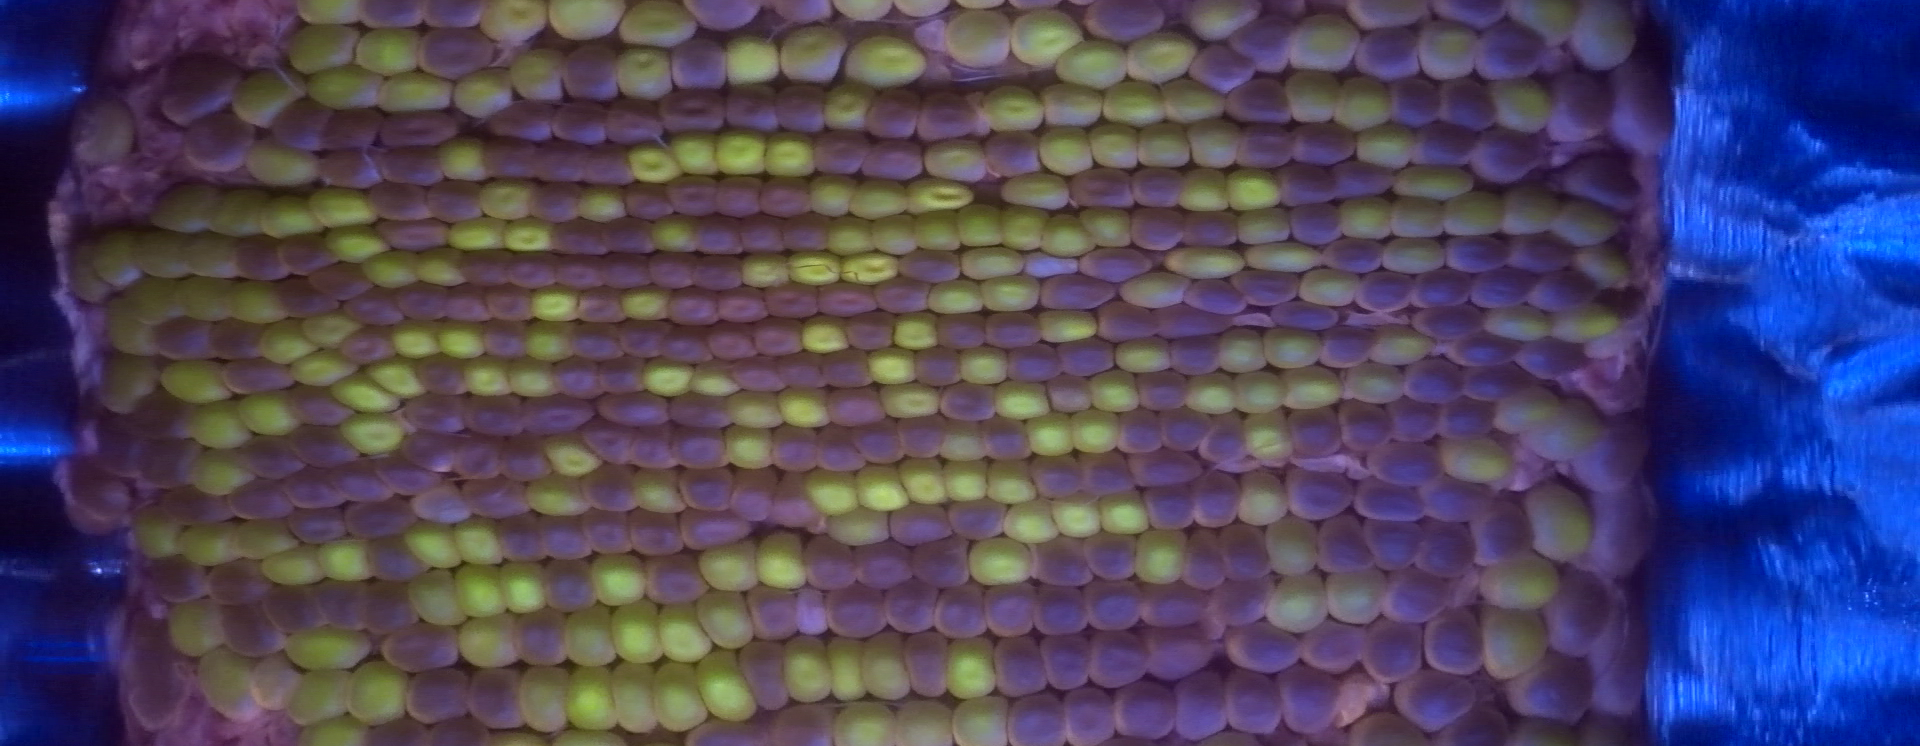fluorescent: (1531, 398, 1610, 468), (69, 93, 136, 171), (1008, 9, 1090, 66), (1566, 1, 1635, 70), (230, 73, 307, 125), (201, 650, 258, 717), (699, 652, 756, 717), (846, 39, 923, 86), (1556, 197, 1633, 244), (280, 628, 371, 668), (1338, 361, 1417, 405), (656, 664, 709, 729), (458, 614, 516, 673), (944, 12, 1007, 66), (1544, 480, 1588, 556), (969, 538, 1033, 588), (782, 26, 840, 82), (1296, 16, 1354, 70), (350, 661, 409, 715), (1480, 612, 1542, 664), (1056, 40, 1124, 86), (784, 637, 829, 704), (149, 185, 211, 234), (288, 29, 358, 72), (100, 356, 154, 412), (1446, 437, 1510, 484), (100, 301, 158, 353), (610, 605, 661, 663), (947, 638, 997, 697), (1491, 387, 1558, 431), (249, 138, 313, 183), (1130, 32, 1191, 78), (1419, 27, 1480, 73), (724, 36, 776, 89), (549, 1, 623, 39), (613, 663, 654, 733), (800, 465, 857, 514), (169, 598, 218, 655), (863, 632, 907, 696), (162, 361, 233, 401), (312, 537, 369, 586), (621, 7, 696, 44), (1338, 73, 1393, 122), (238, 394, 299, 439), (290, 673, 347, 720), (381, 73, 451, 111), (129, 506, 180, 557), (522, 668, 566, 728), (1168, 244, 1242, 279), (454, 73, 513, 118), (921, 138, 987, 178), (1502, 189, 1556, 236), (358, 29, 422, 69), (1346, 710, 1417, 746), (1189, 2, 1262, 37), (509, 51, 561, 100), (182, 521, 234, 570), (478, 1, 544, 39), (833, 706, 899, 744), (699, 597, 753, 643), (569, 668, 611, 728), (1044, 80, 1101, 124), (288, 349, 355, 386), (659, 610, 708, 660), (238, 516, 296, 557), (1081, 206, 1135, 251), (1493, 85, 1548, 129), (1248, 414, 1292, 469), (700, 550, 756, 594), (980, 88, 1040, 129), (347, 412, 407, 452), (1569, 706, 1629, 746), (310, 191, 373, 229), (1138, 530, 1185, 581), (616, 54, 669, 99), (1182, 372, 1236, 416), (1494, 561, 1548, 605), (827, 638, 864, 701), (1262, 330, 1322, 369), (180, 274, 228, 323), (407, 522, 456, 570), (413, 575, 460, 624), (567, 612, 613, 663), (192, 405, 250, 446), (331, 377, 400, 410), (850, 472, 909, 511), (1298, 266, 1353, 307), (365, 358, 427, 394), (313, 73, 380, 108), (1004, 501, 1056, 545), (1553, 307, 1616, 343), (955, 701, 1008, 744), (1000, 175, 1068, 208), (1289, 73, 1337, 120), (69, 243, 105, 303), (1248, 243, 1322, 272), (629, 468, 682, 510), (900, 699, 953, 741), (1343, 194, 1390, 240), (1092, 367, 1139, 414), (1043, 126, 1089, 174), (140, 227, 185, 274), (1581, 246, 1629, 292), (1280, 578, 1322, 628), (1446, 190, 1498, 232), (593, 560, 644, 601), (185, 238, 238, 278), (726, 424, 771, 470), (714, 127, 762, 171), (211, 195, 258, 239), (523, 479, 587, 512), (1138, 126, 1187, 169), (298, 715, 366, 746), (1222, 331, 1272, 372), (1070, 408, 1120, 450), (460, 567, 501, 619), (361, 254, 418, 290), (542, 439, 599, 475), (1162, 87, 1224, 120), (1502, 715, 1570, 746), (1194, 122, 1239, 168), (902, 459, 947, 506), (431, 142, 485, 180), (447, 526, 504, 561), (465, 356, 514, 398), (1030, 412, 1071, 461), (999, 205, 1046, 247), (1331, 578, 1378, 621), (760, 537, 802, 584), (189, 457, 249, 490), (1393, 194, 1442, 234), (224, 284, 282, 318), (266, 198, 316, 238), (1043, 216, 1093, 255), (1393, 169, 1469, 195), (262, 323, 313, 361), (1381, 328, 1433, 366), (1485, 305, 1547, 337), (724, 394, 782, 428), (1272, 521, 1315, 566), (1227, 175, 1280, 212), (1104, 83, 1161, 118), (96, 236, 136, 284), (1234, 372, 1283, 412), (1118, 336, 1169, 372), (883, 385, 938, 419), (809, 173, 851, 218), (1180, 170, 1226, 212), (1243, 474, 1282, 522), (130, 282, 182, 317), (1382, 240, 1449, 268), (1125, 274, 1194, 301), (1284, 371, 1338, 405), (987, 276, 1037, 312), (1040, 311, 1100, 342), (504, 563, 544, 610), (893, 312, 940, 350), (765, 137, 814, 174), (840, 251, 901, 281), (306, 314, 362, 345), (827, 85, 871, 125), (802, 314, 849, 352), (961, 345, 1008, 383), (994, 383, 1046, 418), (264, 549, 316, 583), (324, 232, 387, 260), (1517, 1, 1572, 33), (867, 348, 920, 381), (929, 279, 980, 314), (623, 285, 669, 323), (776, 393, 828, 426), (394, 320, 442, 355), (508, 359, 556, 394), (907, 183, 967, 211), (944, 461, 984, 502), (627, 147, 676, 181), (480, 185, 529, 219), (441, 323, 487, 359), (853, 186, 905, 218), (1356, 134, 1411, 163), (989, 465, 1033, 502), (502, 222, 552, 254), (418, 249, 464, 283), (958, 209, 1000, 246), (1048, 501, 1100, 532), (1090, 132, 1135, 167), (1237, 211, 1287, 241), (673, 136, 715, 173), (915, 216, 956, 252), (872, 220, 915, 256), (831, 214, 869, 254), (740, 254, 786, 285), (533, 289, 579, 321), (691, 363, 737, 394), (647, 359, 694, 390), (449, 220, 503, 247), (653, 216, 692, 252), (790, 254, 839, 283), (1106, 499, 1146, 534), (959, 252, 1021, 274), (556, 726, 621, 746), (1198, 726, 1260, 746), (300, 1, 355, 23), (527, 327, 564, 359), (580, 191, 623, 219), (493, 726, 549, 746), (831, 2, 890, 18), (895, 1, 951, 15)
nonfluorescent: (160, 55, 249, 126), (1611, 53, 1671, 156), (1507, 653, 1593, 724), (1584, 484, 1651, 575), (1543, 572, 1610, 657), (1609, 589, 1651, 725), (1562, 149, 1644, 213), (58, 452, 130, 522), (378, 620, 464, 679), (1222, 669, 1291, 742), (1168, 665, 1237, 737), (1591, 410, 1648, 492), (1468, 129, 1545, 187), (1300, 615, 1369, 679), (375, 105, 460, 156), (1112, 677, 1176, 745), (418, 28, 493, 85), (1547, 69, 1607, 140), (467, 668, 531, 733), (1053, 680, 1116, 746), (187, 114, 260, 170), (1400, 669, 1471, 725), (1434, 73, 1498, 136), (1480, 20, 1545, 81), (1282, 467, 1357, 519), (1140, 626, 1215, 679), (1427, 606, 1482, 677), (1233, 17, 1297, 78), (1362, 620, 1425, 681), (1471, 501, 1536, 561), (1363, 440, 1446, 486), (1138, 579, 1209, 633), (1089, 627, 1151, 688), (916, 87, 980, 146), (1187, 40, 1258, 93), (364, 176, 440, 225), (1224, 621, 1300, 670), (1000, 631, 1054, 699), (522, 393, 599, 441), (1413, 122, 1490, 170), (879, 579, 940, 639), (1033, 578, 1093, 639), (1035, 631, 1095, 692), (747, 581, 804, 644), (1417, 522, 1480, 579), (1360, 514, 1424, 572), (740, 641, 789, 715), (138, 436, 204, 491), (851, 537, 917, 592), (931, 581, 993, 638), (1282, 664, 1340, 726), (593, 387, 673, 431), (287, 423, 362, 469), (1081, 1, 1166, 43), (1130, 448, 1212, 491), (516, 608, 571, 671), (1291, 116, 1360, 167), (602, 96, 669, 148), (1223, 77, 1294, 126), (654, 87, 729, 134), (1516, 337, 1591, 383), (1073, 243, 1153, 285), (863, 88, 923, 146), (1030, 532, 1093, 586), (1420, 473, 1490, 522), (980, 126, 1047, 176), (321, 146, 388, 196), (271, 99, 331, 156), (563, 45, 620, 105), (149, 548, 211, 603), (405, 670, 467, 725), (640, 559, 713, 605), (765, 699, 838, 746), (236, 432, 305, 481), (1082, 578, 1146, 631), (1382, 572, 1449, 622), (980, 581, 1038, 637), (138, 388, 200, 442), (1357, 29, 1419, 82), (905, 627, 950, 699), (214, 604, 284, 650), (1338, 396, 1393, 454), (1195, 469, 1249, 529), (827, 588, 888, 641), (1158, 298, 1238, 338), (675, 510, 754, 550), (460, 479, 538, 521), (1093, 298, 1158, 347), (947, 489, 1011, 538), (366, 579, 422, 636), (1082, 529, 1141, 583), (767, 470, 819, 530), (204, 557, 271, 605), (806, 529, 857, 590), (287, 381, 354, 428), (340, 501, 420, 540), (217, 354, 294, 394), (1222, 526, 1278, 581), (1286, 403, 1340, 461), (1318, 512, 1371, 570), (729, 81, 781, 140), (1212, 575, 1272, 626), (1403, 358, 1464, 408), (1036, 273, 1125, 307), (1032, 450, 1089, 503), (916, 537, 972, 590), (322, 105, 381, 157), (671, 40, 730, 92), (460, 393, 529, 437), (264, 581, 323, 632), (1526, 272, 1603, 311), (402, 391, 467, 437), (1438, 331, 1522, 366), (680, 465, 741, 514), (271, 233, 340, 276), (1359, 475, 1429, 518), (105, 405, 144, 481), (775, 81, 829, 136), (380, 145, 447, 189), (825, 386, 893, 430), (1005, 692, 1060, 746), (490, 98, 553, 145), (888, 501, 951, 548), (1069, 168, 1134, 213), (367, 535, 432, 581), (627, 510, 687, 559), (1354, 266, 1414, 315), (306, 261, 373, 304), (864, 140, 929, 184), (1232, 266, 1300, 307), (231, 477, 298, 519), (669, 390, 738, 430), (282, 503, 351, 544), (320, 578, 369, 636), (682, 1, 764, 36), (550, 216, 609, 263), (983, 309, 1047, 353), (504, 245, 564, 292), (1460, 360, 1531, 399), (1390, 75, 1444, 126), (456, 247, 522, 289), (333, 459, 396, 503), (1320, 321, 1378, 369), (726, 467, 774, 524), (677, 715, 767, 746), (1079, 451, 1138, 497), (1512, 229, 1576, 272), (426, 176, 486, 222), (1280, 165, 1340, 211), (1333, 156, 1393, 201), (545, 559, 599, 609), (814, 127, 869, 176), (582, 467, 638, 514), (759, 281, 825, 321), (276, 279, 342, 320), (411, 355, 478, 396), (283, 470, 347, 512), (1236, 126, 1296, 170), (234, 233, 284, 285), (496, 506, 545, 560), (1468, 269, 1536, 309), (1142, 488, 1198, 535), (1130, 371, 1191, 414), (502, 437, 558, 484), (580, 143, 638, 189), (485, 138, 544, 183), (157, 318, 216, 363), (413, 481, 471, 526), (1201, 412, 1249, 465), (898, 412, 951, 459), (1438, 709, 1507, 746), (1130, 164, 1187, 209), (337, 328, 402, 367), (552, 102, 610, 146), (212, 314, 269, 358), (841, 310, 899, 354), (373, 220, 453, 252), (1291, 205, 1349, 247), (531, 143, 587, 189), (937, 383, 1000, 423), (759, 171, 816, 216), (1185, 206, 1242, 250), (1408, 306, 1493, 336), (896, 247, 964, 284), (749, 317, 811, 358), (1318, 236, 1382, 274), (460, 436, 509, 486), (582, 508, 634, 555), (816, 279, 878, 318), (1185, 276, 1249, 314), (1056, 337, 1119, 375), (1117, 405, 1164, 456), (818, 426, 868, 474), (588, 420, 636, 470), (539, 514, 590, 561), (1047, 370, 1100, 415), (696, 216, 749, 260), (617, 318, 671, 363), (1171, 333, 1224, 377), (1411, 268, 1473, 306), (770, 428, 825, 470), (778, 216, 838, 255), (1187, 526, 1222, 592), (600, 250, 656, 292), (716, 171, 762, 223), (1002, 345, 1063, 383), (1446, 236, 1507, 274), (1265, 303, 1343, 332), (675, 428, 733, 467), (528, 184, 583, 225), (1161, 408, 1211, 453), (869, 276, 936, 310), (168, 491, 234, 526), (1389, 397, 1440, 441), (667, 174, 720, 217), (391, 456, 443, 499), (551, 254, 609, 293), (394, 285, 456, 322), (823, 348, 877, 390), (860, 416, 900, 472), (705, 323, 756, 367), (912, 345, 964, 388), (1127, 209, 1184, 247), (932, 314, 989, 352), (691, 257, 749, 294), (666, 289, 725, 326), (442, 284, 493, 326), (605, 216, 658, 256), (594, 356, 651, 393), (482, 283, 536, 322), (348, 288, 402, 327), (359, 1, 422, 34), (555, 358, 604, 401), (647, 251, 697, 293), (622, 184, 673, 224), (660, 326, 713, 365), (986, 416, 1031, 462), (718, 288, 771, 326), (568, 322, 622, 360), (404, 434, 459, 470), (1440, 401, 1495, 437), (791, 586, 830, 637), (632, 428, 676, 472), (485, 320, 531, 361), (429, 714, 489, 746), (732, 356, 782, 394), (779, 352, 824, 393), (738, 216, 782, 257), (577, 292, 628, 326), (422, 1, 485, 29), (366, 717, 425, 746), (1431, 1, 1498, 26), (771, 1, 835, 26)
